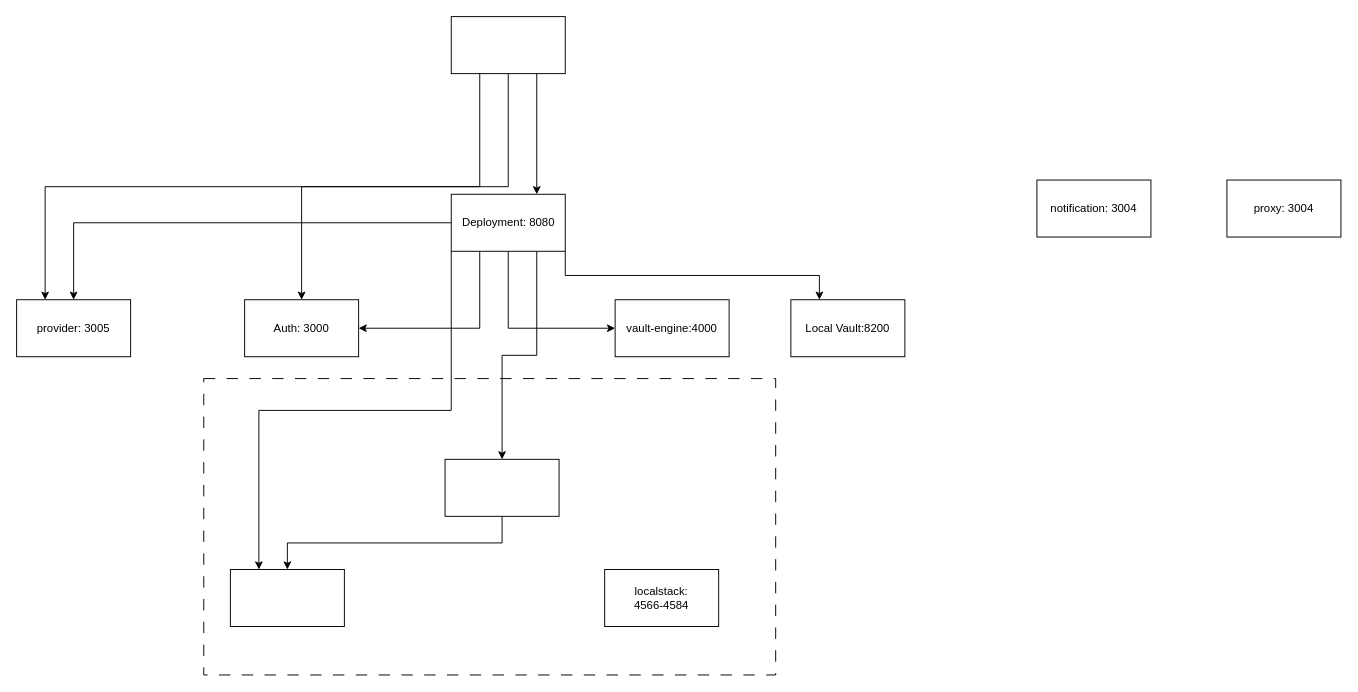
The diagram is 1358 pixels wide and 692 high, and some of its shapes have lost their labels. Each missing label, with the box of its shape:
Cassandra:9042: (229, 569, 344, 627)
Docker: (203, 378, 776, 675)
Kong: 50000 8000,8001,8443: (444, 458, 559, 516)
UI: 4200: (450, 16, 565, 74)
